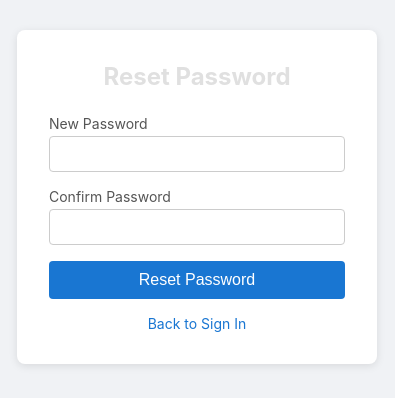
Scenario: ResetPasswordPage › shows error on API failure
Type "newpassword" into the password field labelled "New Password" at (197, 154), box [49, 136, 345, 172]
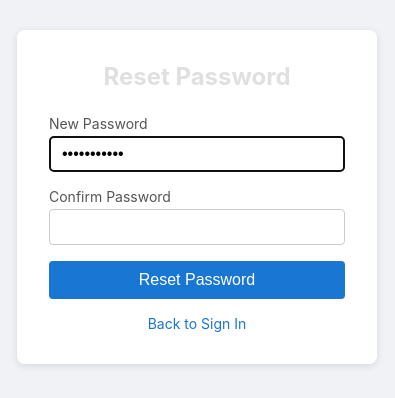
Type "newpassword" into the password field labelled "Confirm Password" at (197, 227), box [49, 209, 345, 245]
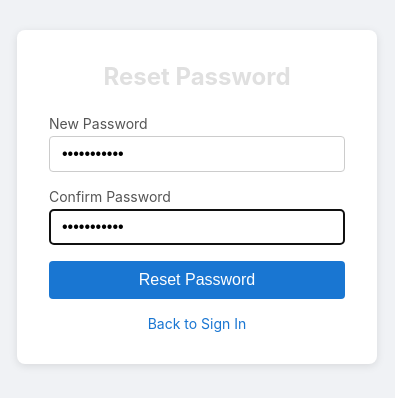
Click the button "Reset Password" at (197, 280), box [49, 261, 345, 299]
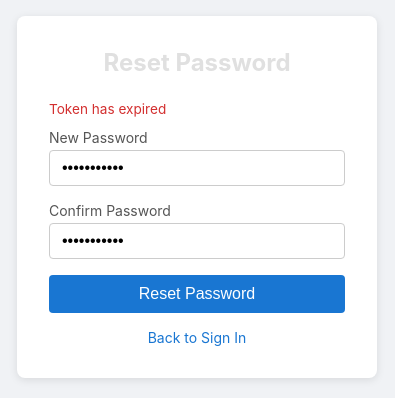
Expected: the text "Token has expired" is shown, [49, 101, 166, 117]
